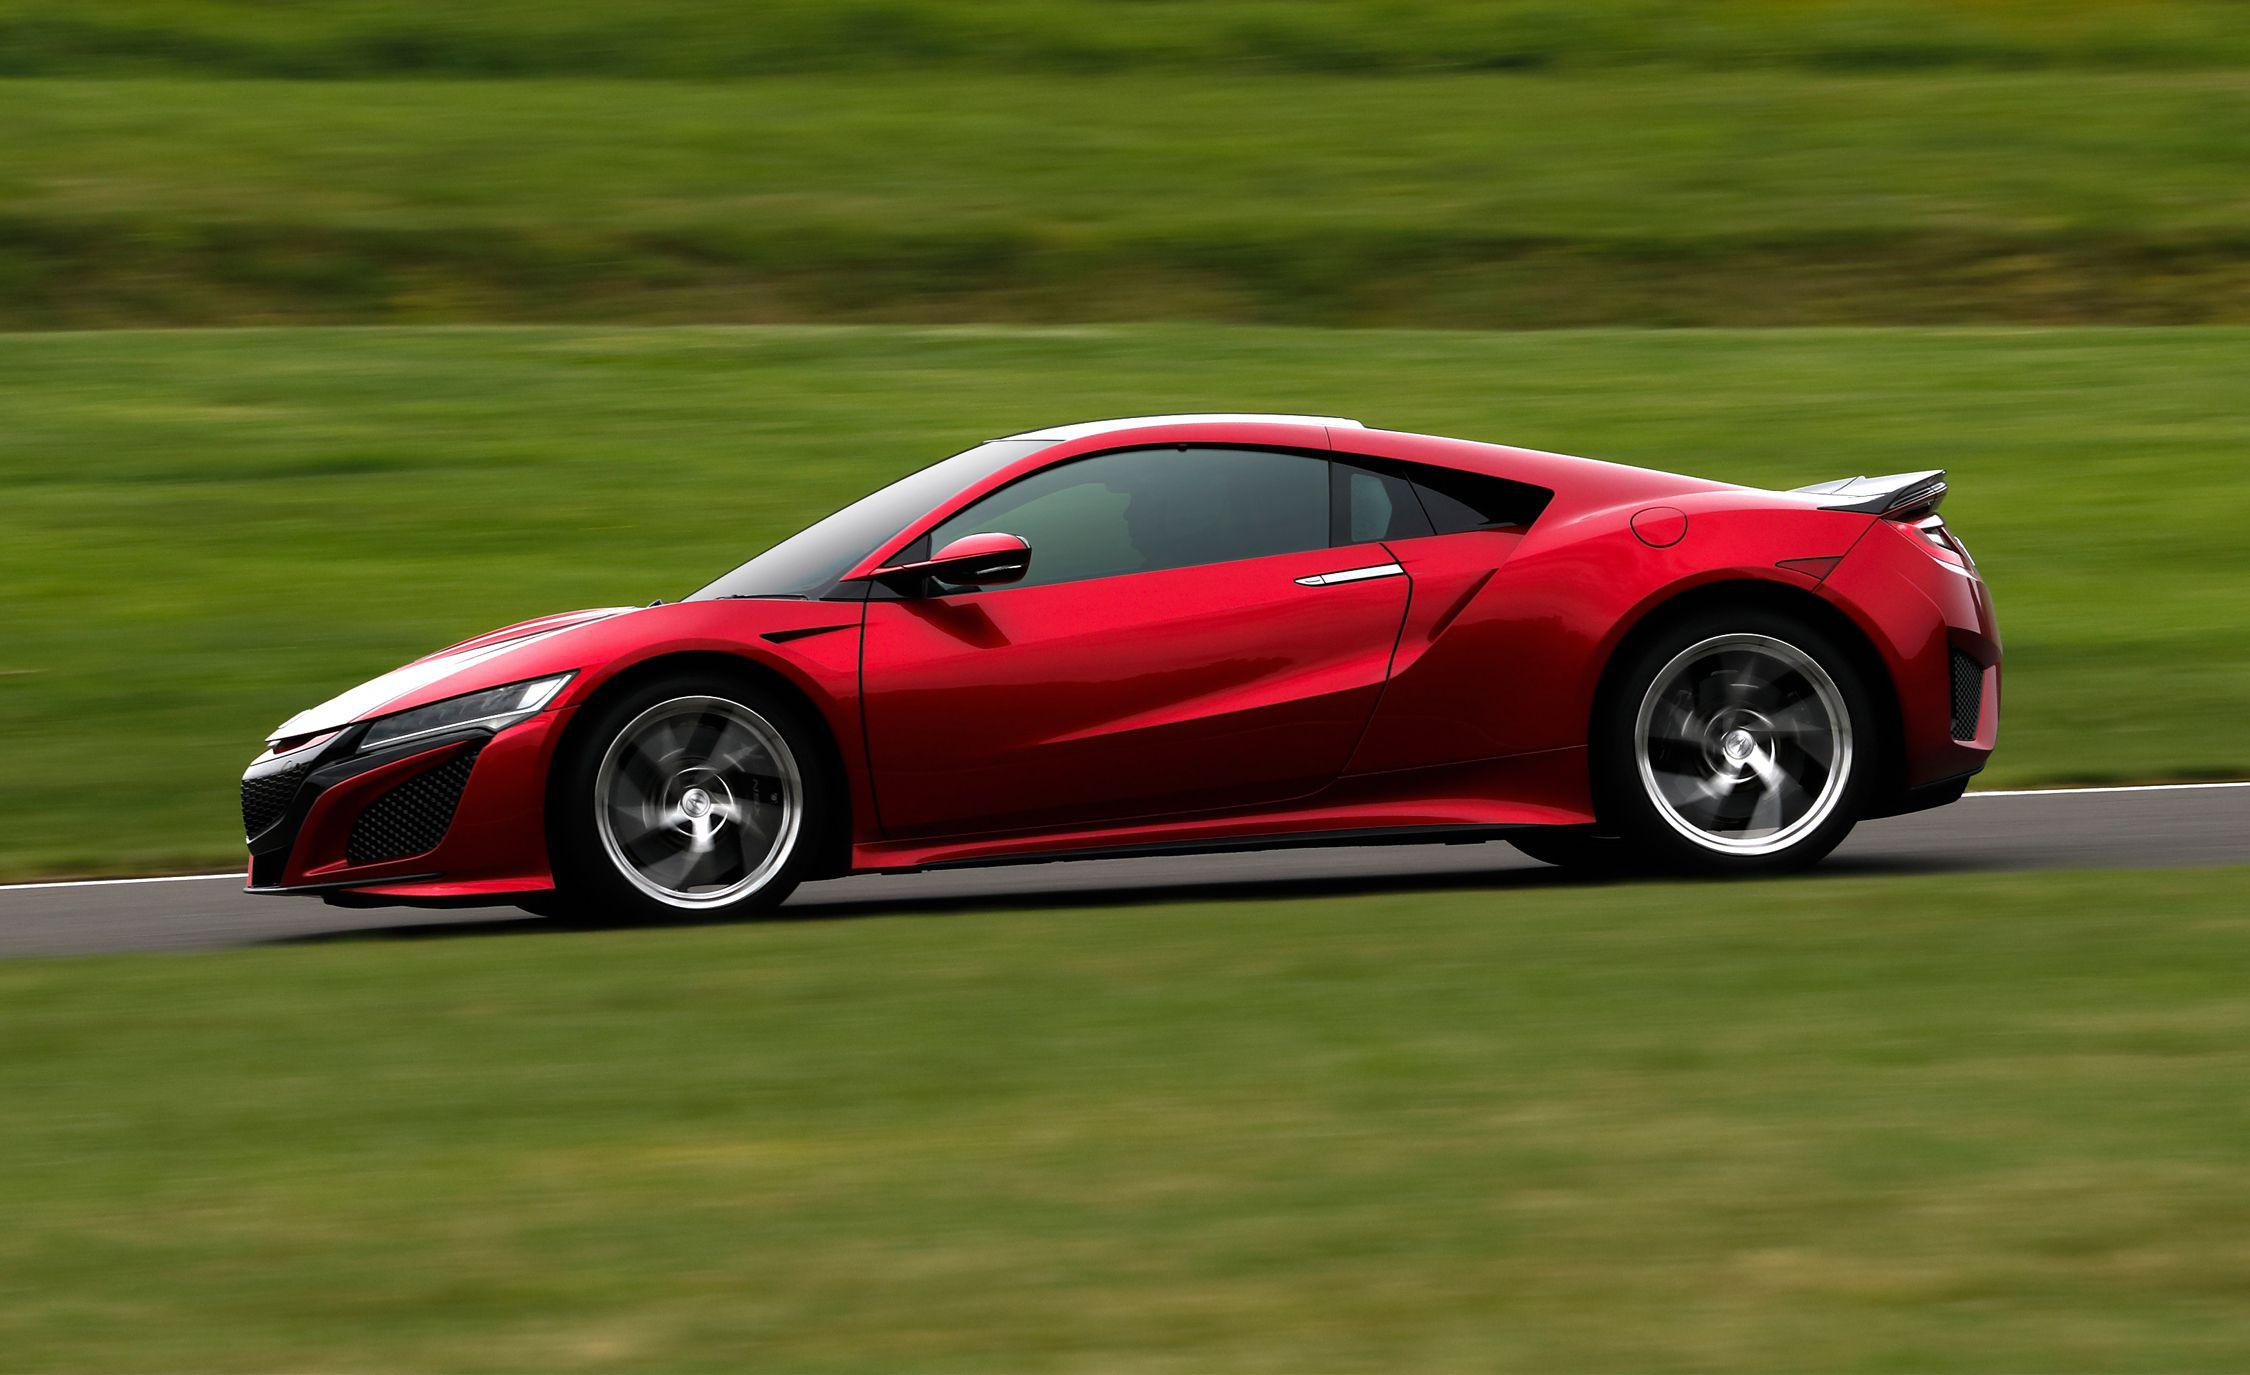car: (178, 402, 2101, 948)
